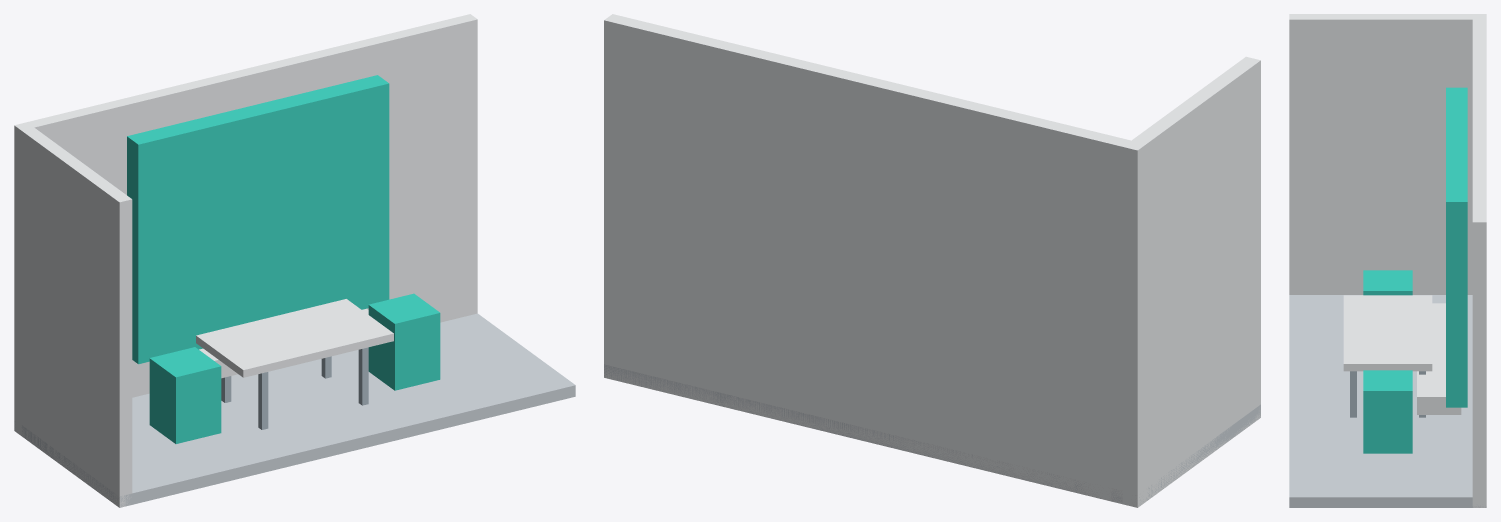
3 views of the same model, side by side, from view 1: azimuth 30°, elevation 25°; view 2: azimuth 150°, elevation 25°; view 3: azimuth 270°, elevation 25° (orthographic). The views are drawn at different scales.
Parts seen in each view (by area): view 1: Exhibition Booth Concept; view 2: Exhibition Booth Concept; view 3: Exhibition Booth Concept.
Part boxes in pixels (left/top/right/bottom): Exhibition Booth Concept: left=14, top=14, right=575, bottom=507; Exhibition Booth Concept: left=604, top=14, right=1260, bottom=507; Exhibition Booth Concept: left=1289, top=14, right=1486, bottom=507.
Size of the model in its own units: 5 by 3.2 by 2.
